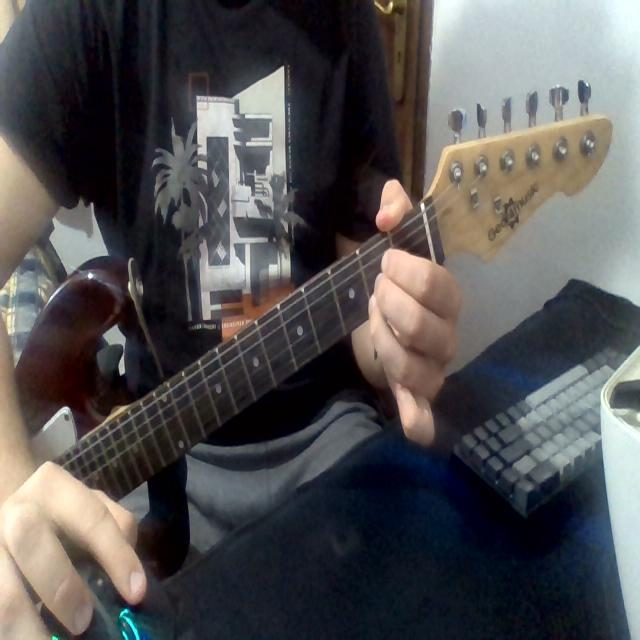A: (353, 197, 433, 371)
